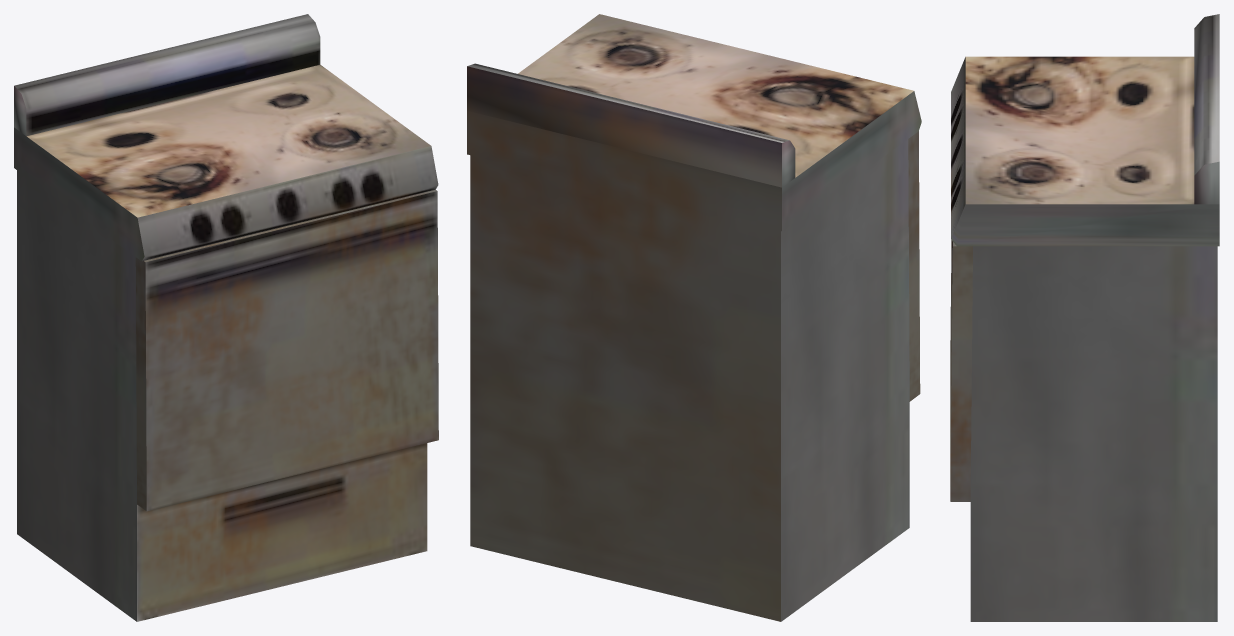
Rendered from roach_stove.FBX.
The picture shows the model from 3 angles, left to right: view 1: azimuth 30°, elevation 25°; view 2: azimuth 150°, elevation 25°; view 3: azimuth 270°, elevation 25°; orthographic projection. The views are drawn at different scales.
Visible parts, largest first — view 1: stove, oven_door; view 2: stove, oven_door; view 3: stove, oven_door.
Part boxes in pixels (bbox=[...]): stove: bbox=[14, 14, 438, 621]; oven_door: bbox=[135, 189, 438, 511]; stove: bbox=[467, 14, 921, 621]; oven_door: bbox=[908, 131, 920, 401]; stove: bbox=[951, 14, 1219, 621]; oven_door: bbox=[950, 240, 972, 501].
Bounding box in the file's own units: 42.86 × 62.44 × 33.04.
